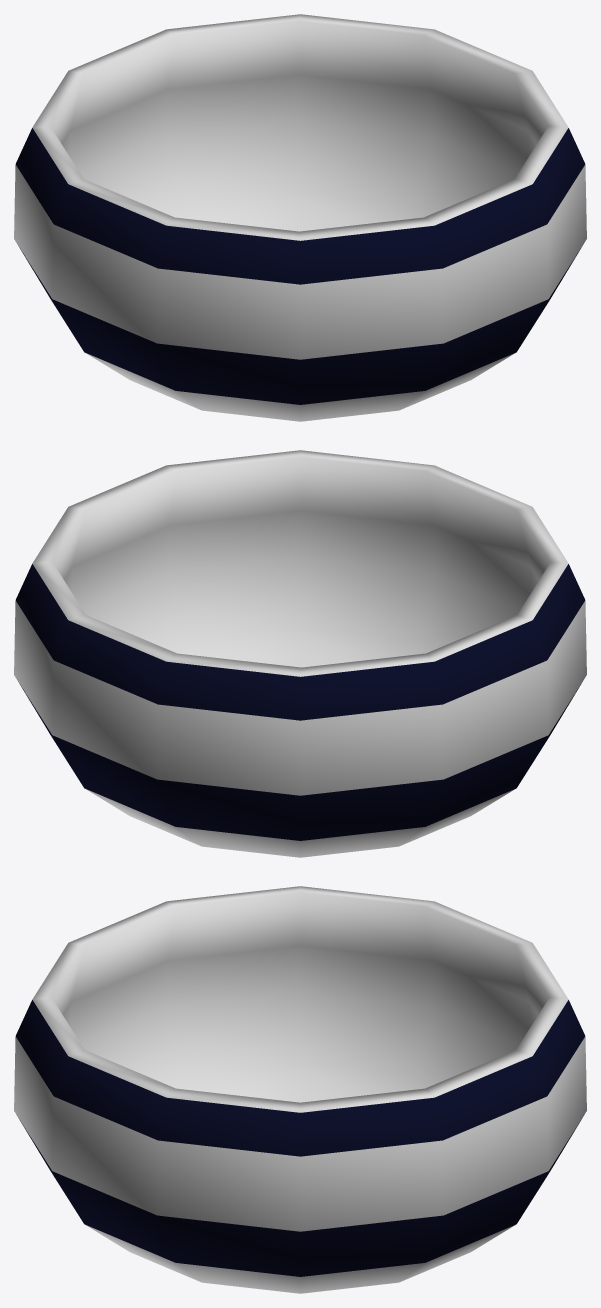
File: KHIP_Bowl.FBX
3 renders of one model, top to bottom at view 1: azimuth 30°, elevation 25°; view 2: azimuth 150°, elevation 25°; view 3: azimuth 270°, elevation 25°, orthographic.
Visible parts, largest first — view 1: KHIP_Bowl; view 2: KHIP_Bowl; view 3: KHIP_Bowl.
Boxes of the visible parts, x1,y1,x2,y2 form: KHIP_Bowl: (14, 14, 586, 421); KHIP_Bowl: (14, 450, 586, 857); KHIP_Bowl: (14, 886, 586, 1293).
Bounding box in the file's own units: 17.02 × 6.96 × 17.02.
